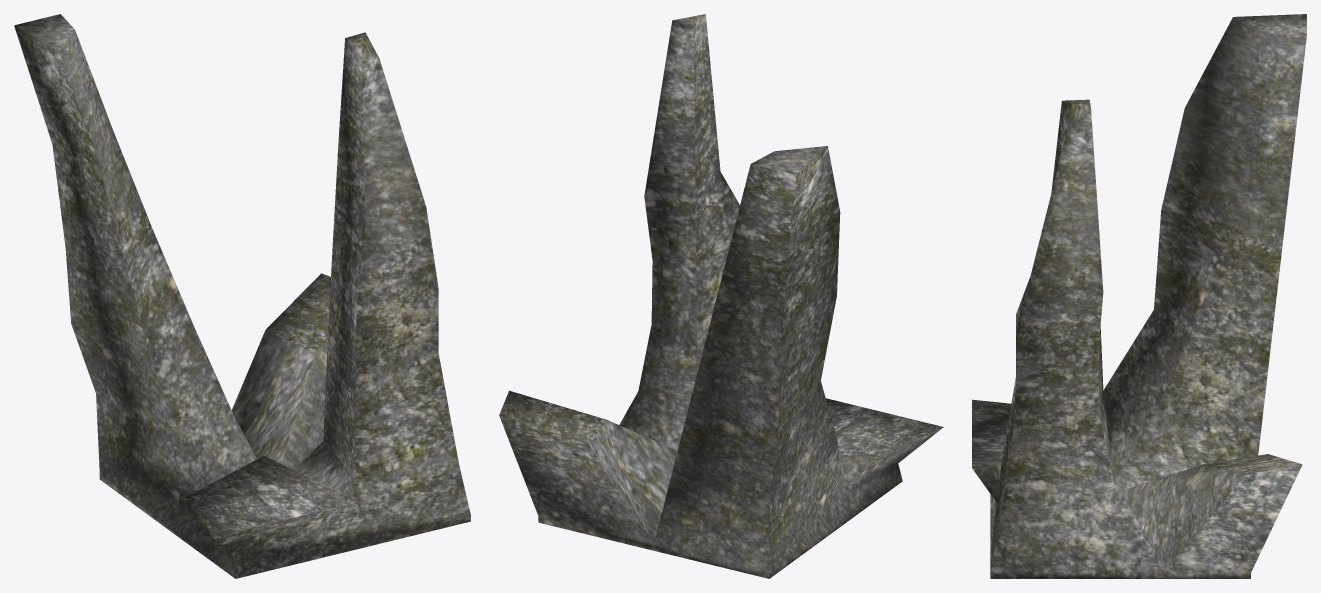
The model's file is ManaLith.fbx.
3 views of the same model, side by side, from view 1: azimuth 30°, elevation 25°; view 2: azimuth 150°, elevation 25°; view 3: azimuth 270°, elevation 25° (orthographic). The views are drawn at different scales.
Parts seen in each view (by area): view 1: ManaLith; view 2: ManaLith; view 3: ManaLith.
Boxes of the visible parts, x1,y1,x2,y2 form: ManaLith: (14,14,470,578); ManaLith: (499,14,943,578); ManaLith: (972,14,1306,578).
Size of the model in its own units: 5.51 by 5.14 by 7.53.
